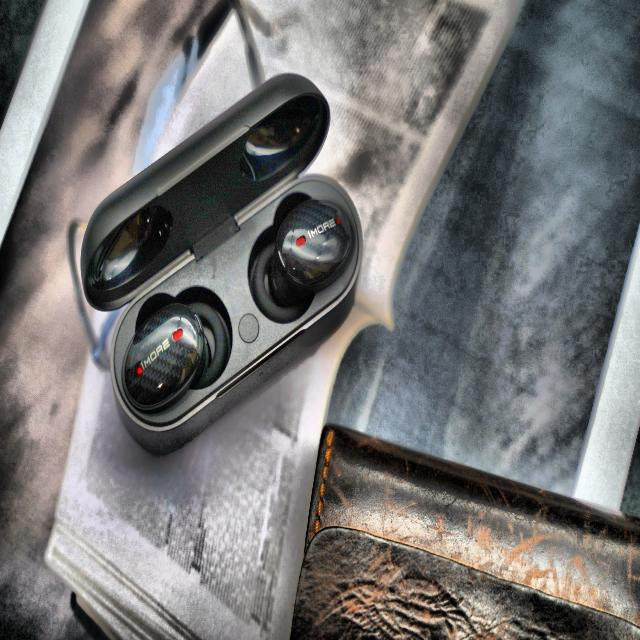Bluetooth headphones: (81, 75, 362, 451)
